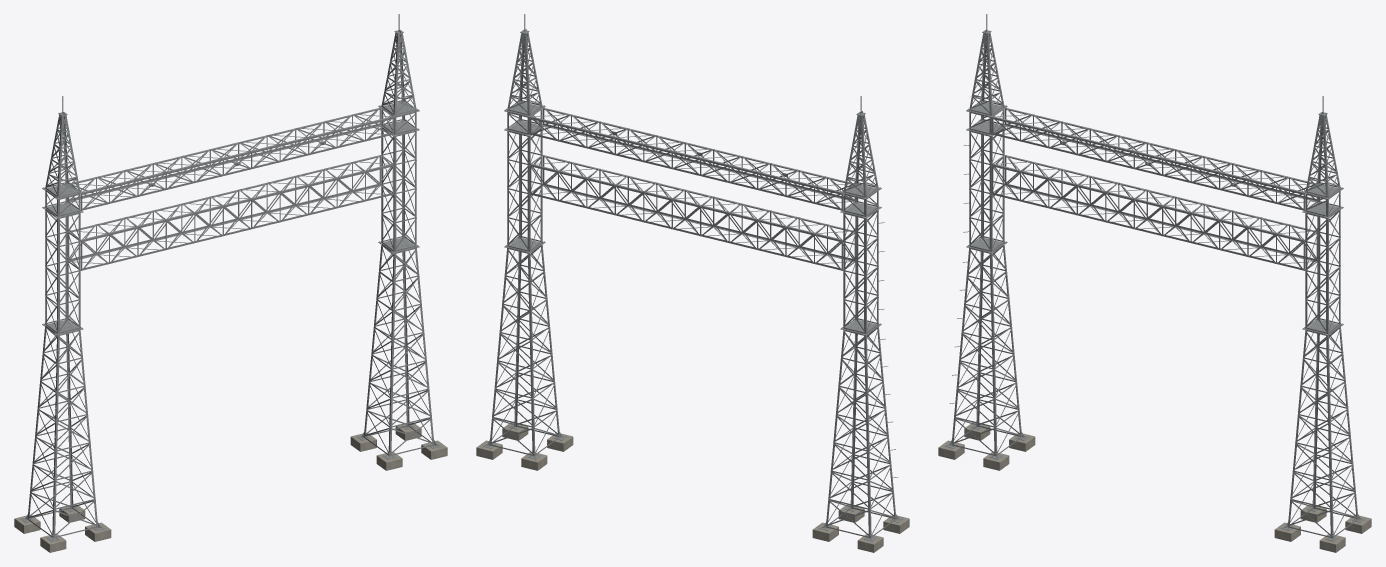
File: Gantry_138kV_SwitchBeam.fbx
3 renders of one model, left to right at view 1: azimuth 30°, elevation 25°; view 2: azimuth 150°, elevation 25°; view 3: azimuth 330°, elevation 25°, orthographic.
Visible parts, largest first — view 1: Body_GalvanizedSteel_LOD0, Body_Concrete_LOD0; view 2: Body_GalvanizedSteel_LOD0, Body_Concrete_LOD0; view 3: Body_GalvanizedSteel_LOD0, Body_Concrete_LOD0.
Boxes of the visible parts, left/top/right/bottom form: Body_GalvanizedSteel_LOD0: left=21, top=14, right=440, bottom=541; Body_Concrete_LOD0: left=14, top=422, right=447, bottom=552; Body_GalvanizedSteel_LOD0: left=483, top=14, right=902, bottom=541; Body_Concrete_LOD0: left=476, top=422, right=909, bottom=552; Body_GalvanizedSteel_LOD0: left=945, top=14, right=1364, bottom=541; Body_Concrete_LOD0: left=938, top=422, right=1371, bottom=552.
Size of what is drawn, in the model's own units: 14.2 by 14.88 by 2.2.
